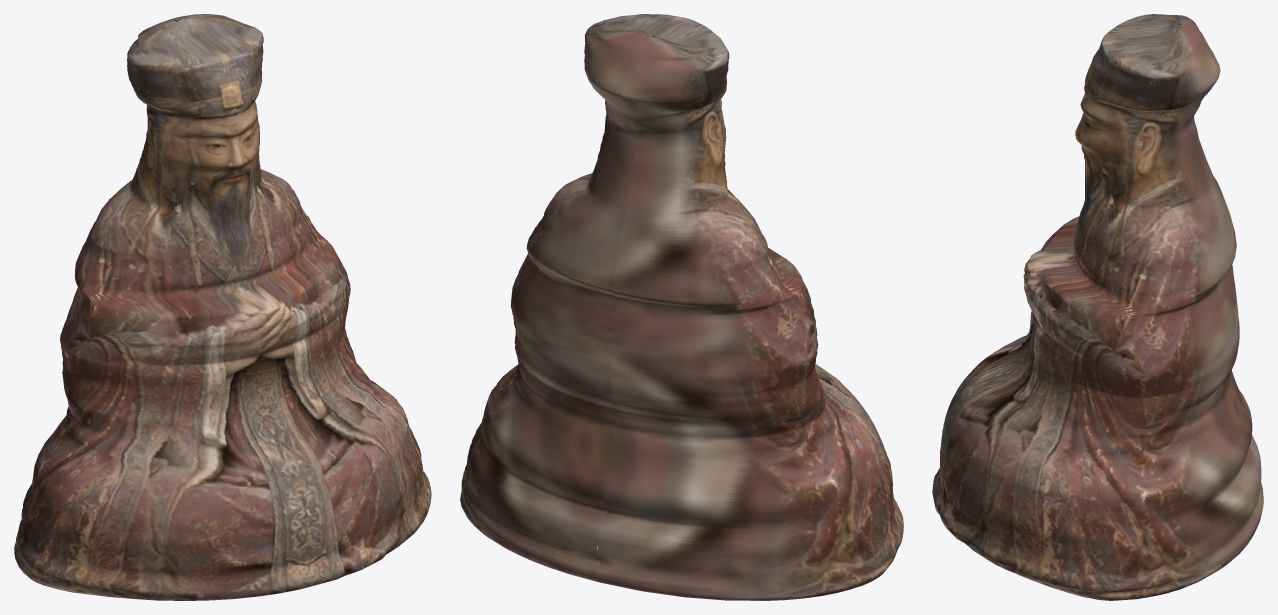
Rendered from scholar.glb.
3 renders of one model, left to right at view 1: azimuth 30°, elevation 25°; view 2: azimuth 150°, elevation 25°; view 3: azimuth 270°, elevation 25°, orthographic. The views are drawn at different scales.
Parts seen in each view (by area): view 1: scholar; view 2: scholar; view 3: scholar.
Part boxes in pixels (box(x1,y1,x2,y2)): scholar: box(14, 14, 431, 600); scholar: box(460, 14, 903, 600); scholar: box(932, 14, 1263, 600).
Size of the model in its own units: 0.8192 by 1 by 0.6163.
1 material, 1 textured.
